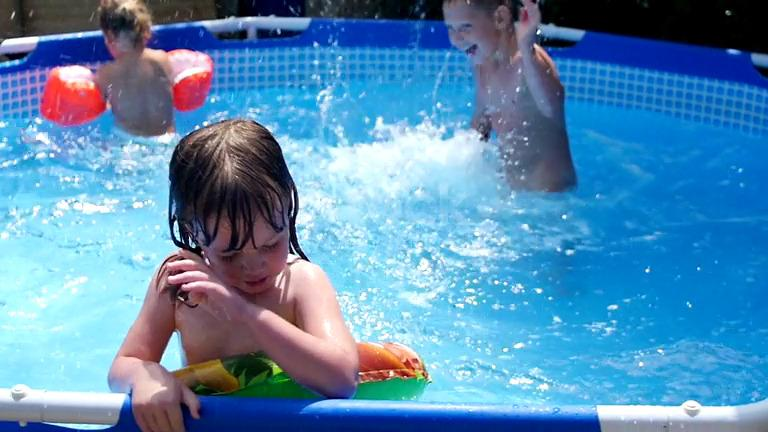Swimming: (91, 132, 457, 397), (420, 0, 670, 224)
